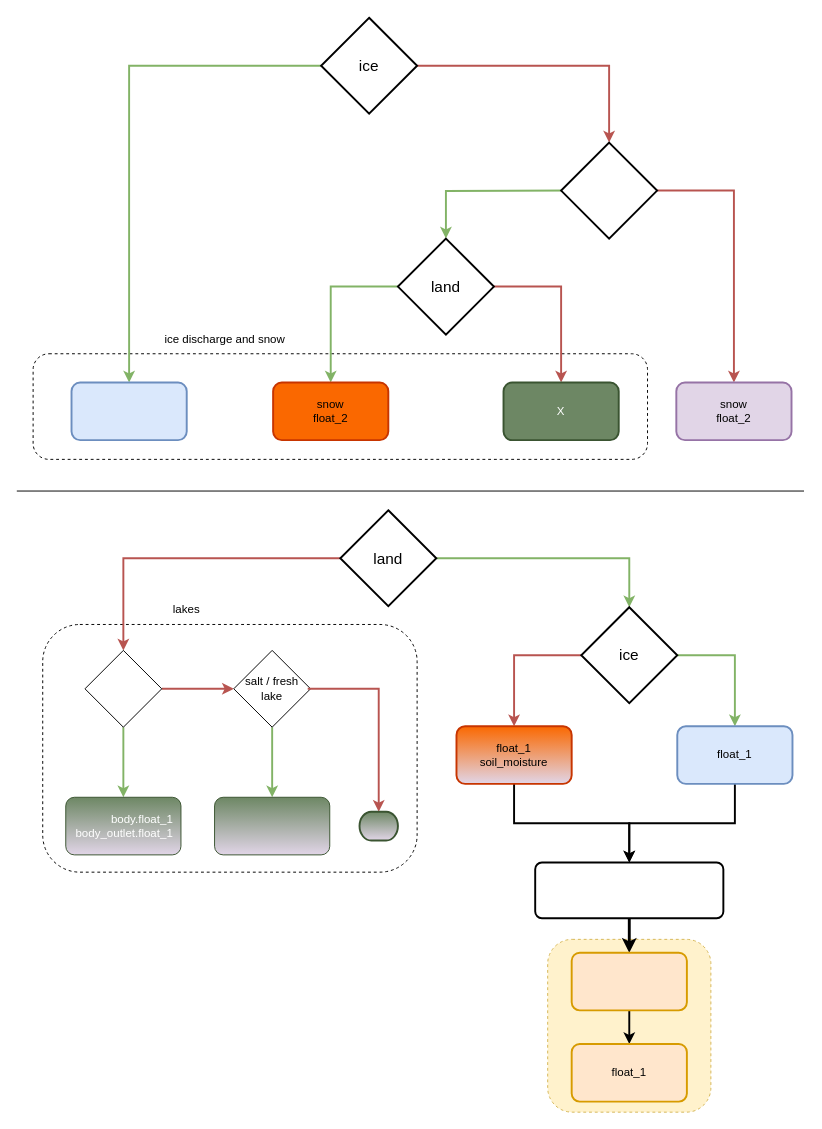
Some shapes in this 822 by 1129 pixel diagram are drawn without their labels. Each missing label, with the centre of its shape:
apply evaporation: (629,890)
body.float_1: (272,825)
float_2: (128,411)
freezing: (609,190)
open lake: (123,688)
total elev diff: (628,981)
